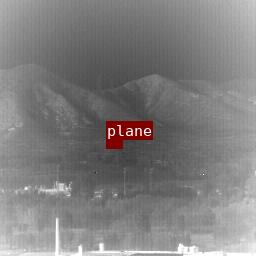plane: (106, 140, 122, 148)
